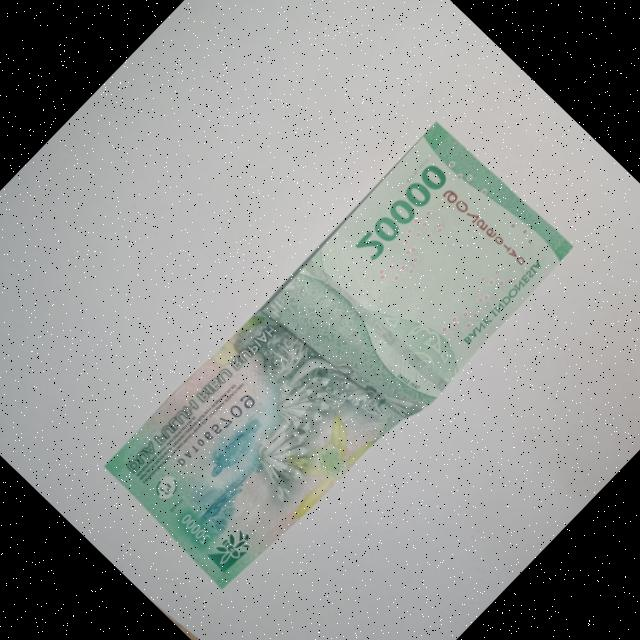20K: (94, 110, 593, 616)
